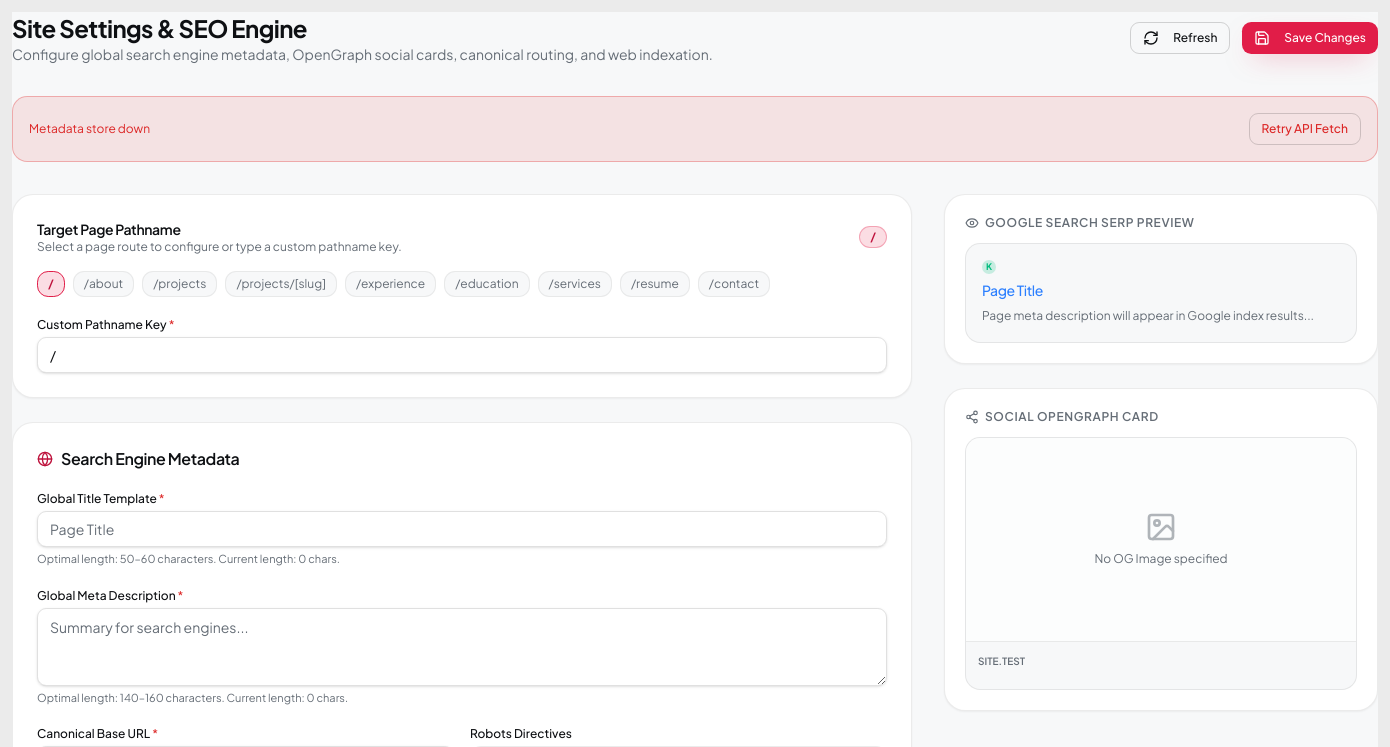
SettingsView › shows a load error with a retry
Expected: the text "Metadata store down" is shown, [29,121,150,137]
Click the button "Refresh".
click(1180, 38)  # box [1130,22,1230,54]
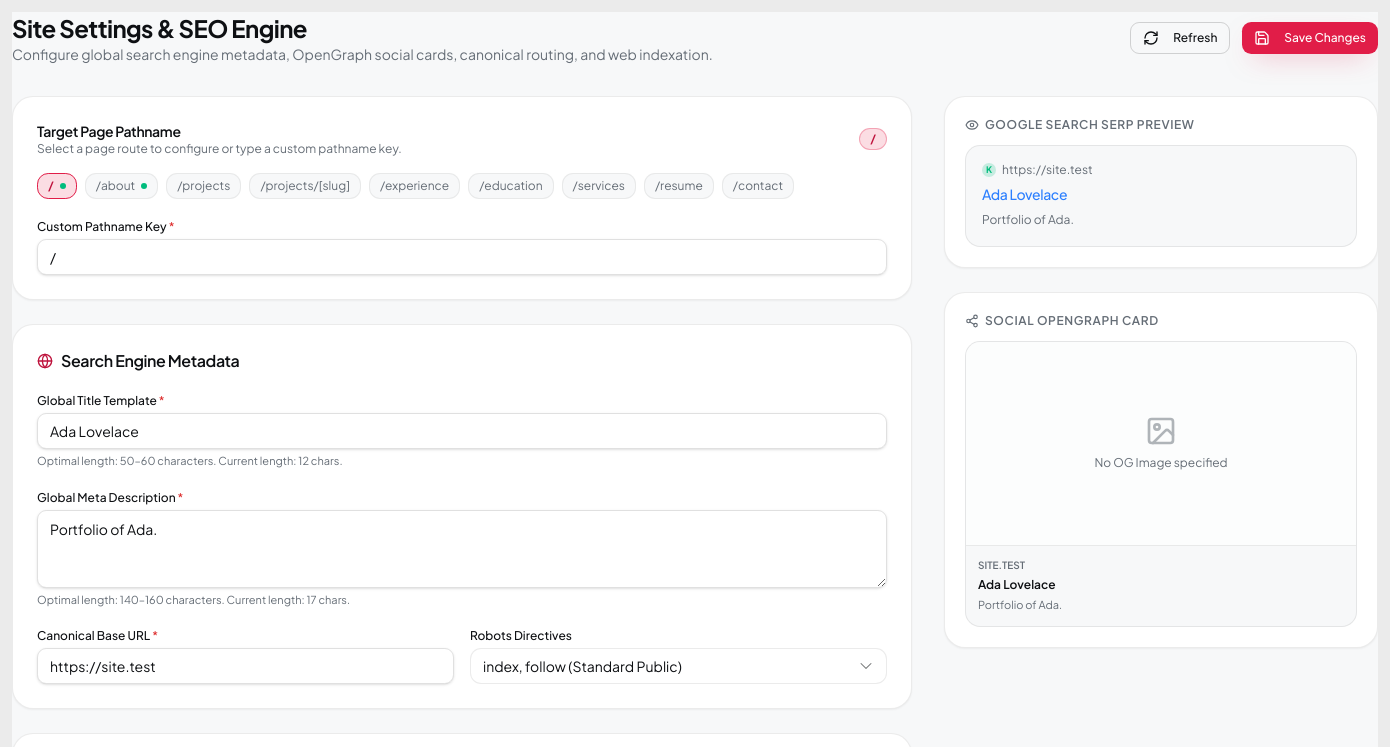
Expected: the field showing "Ada Lovelace" is shown, [37,413,887,449]
